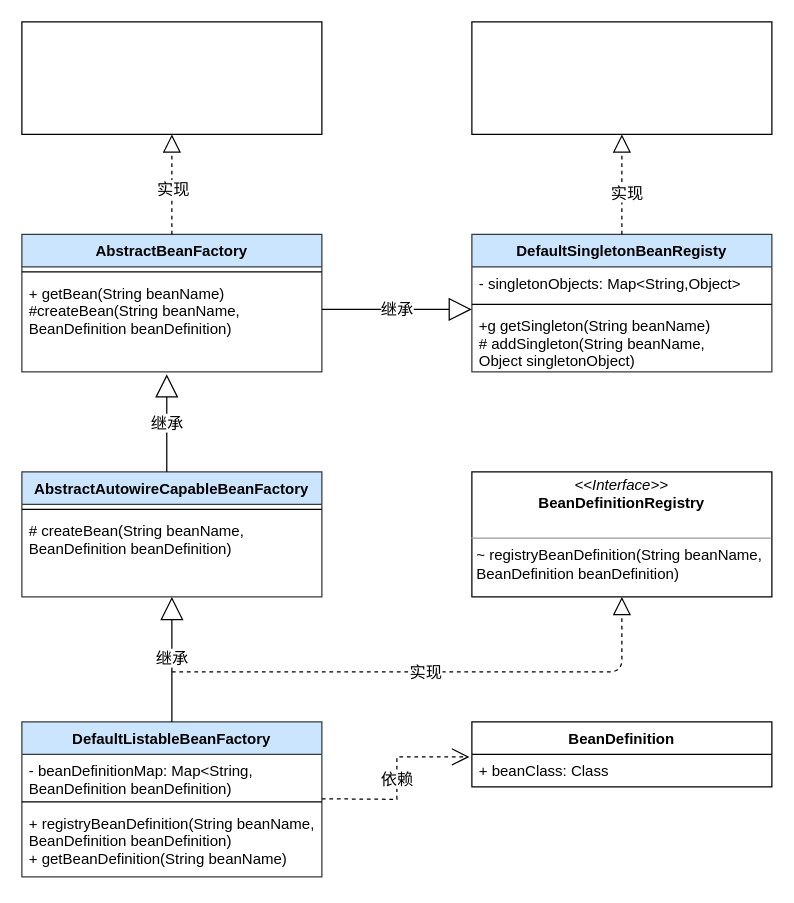
The diagram is 794 pixels wide and 903 high, and some of its shapes have lost their labels. Each missing label, with the centre of its shape:
"<<Interface>> BeanFactory + getBean(String name)" goes at (x=171, y=77).
"<<Interface>> SingletonBeanRegistry + getSingleton(String beanName)" goes at (x=621, y=77).
